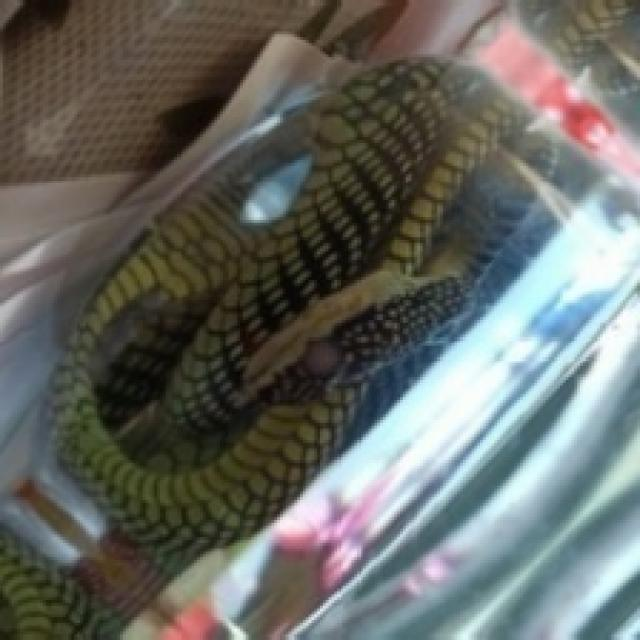paradise tree snake: (57, 60, 526, 611), (0, 534, 114, 637)
